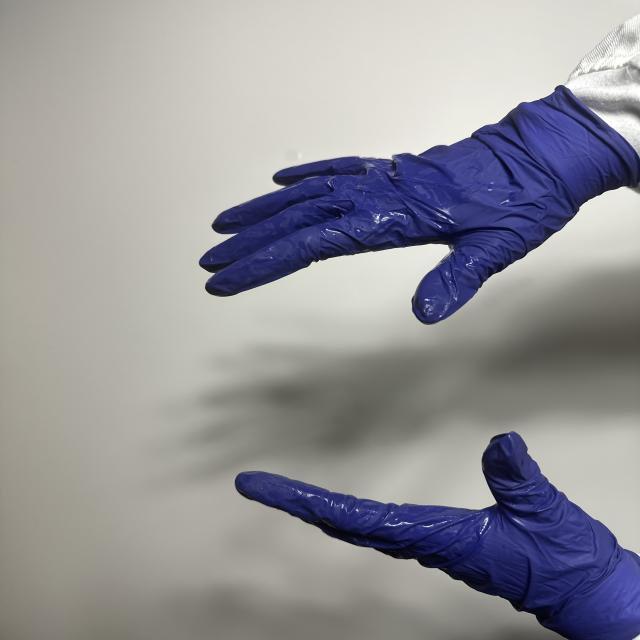gloves_contaminated: (200, 86, 640, 324), (236, 431, 640, 640)
